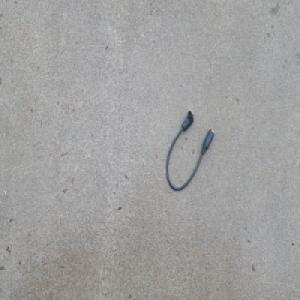Wire: (165, 108, 215, 191)
